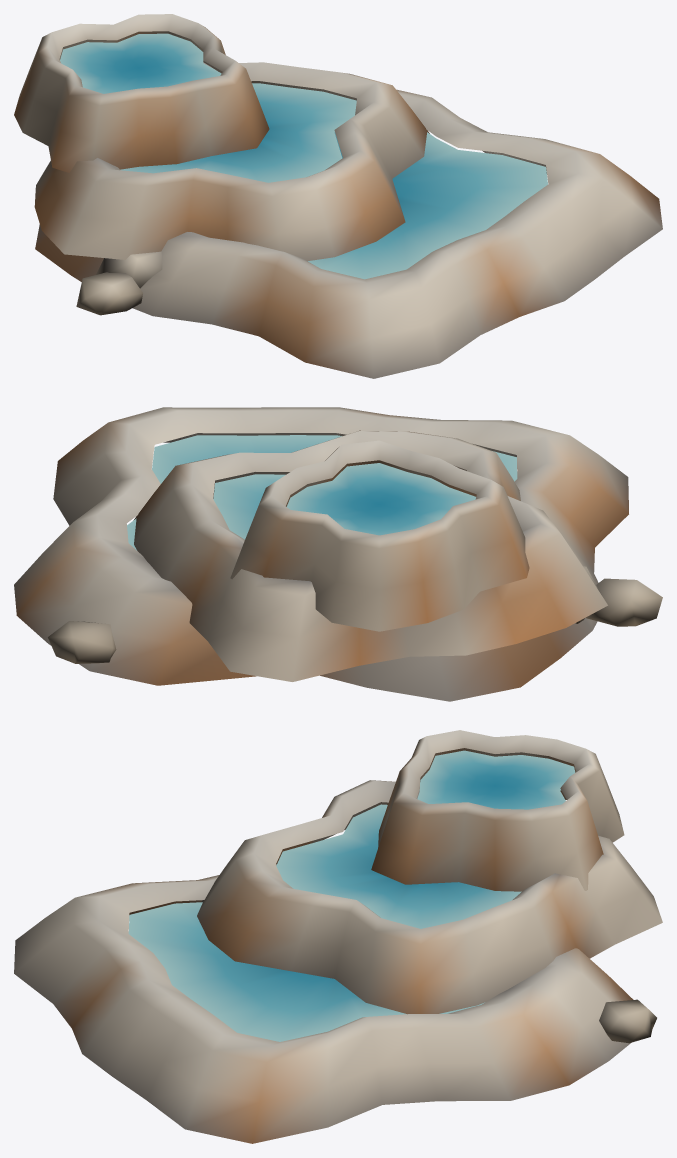
File: prop-scav-sinter-full.glb
3 renders of one model, top to bottom at view 1: azimuth 30°, elevation 25°; view 2: azimuth 150°, elevation 25°; view 3: azimuth 270°, elevation 25°, orthographic. The views are drawn at different scales.
Parts seen in each view (by area): view 1: body; view 2: body; view 3: body.
Part boxes in pixels (<box>): body: <box>14,14,662,378</box>; body: <box>14,407,662,701</box>; body: <box>14,730,662,1143</box>.
Bounding box in the file's own units: 1.46 × 0.396 × 1.4.
